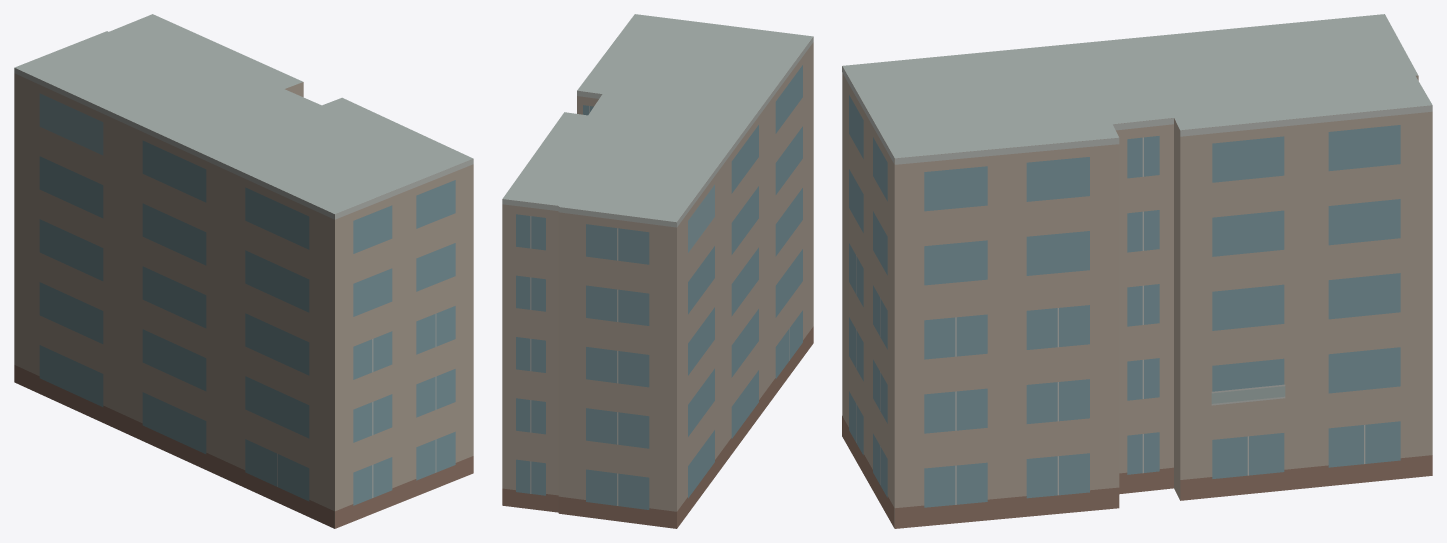
File: survey-upis-33047360.glb
3 renders of one model, left to right at view 1: azimuth 30°, elevation 25°; view 2: azimuth 150°, elevation 25°; view 3: azimuth 270°, elevation 25°, orthographic. The views are drawn at different scales.
Visible parts, largest first — view 1: survey-upis-33047360.tmp; view 2: survey-upis-33047360.tmp; view 3: survey-upis-33047360.tmp.
Part boxes in pixels (box(x1,y1,x2,y2)): survey-upis-33047360.tmp: box(14, 14, 473, 528); survey-upis-33047360.tmp: box(502, 14, 813, 528); survey-upis-33047360.tmp: box(842, 14, 1432, 528).
Size of the model in its own units: 11.71 by 14 by 20.23.
